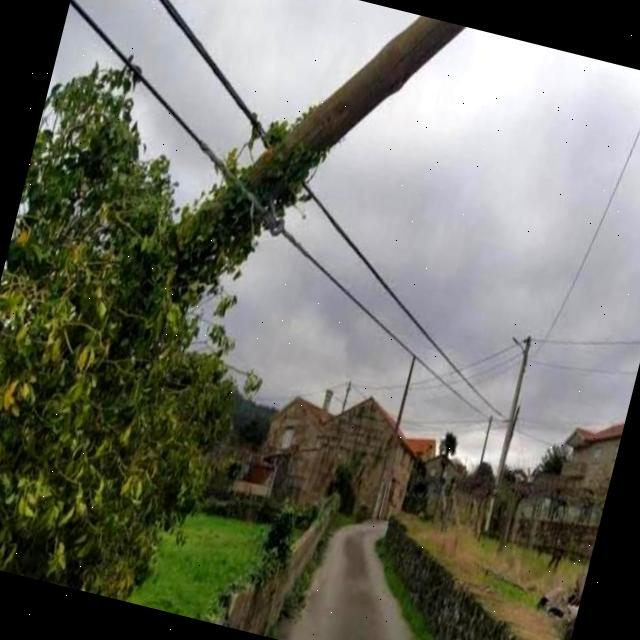Broken Pole: (168, 15, 459, 312)
